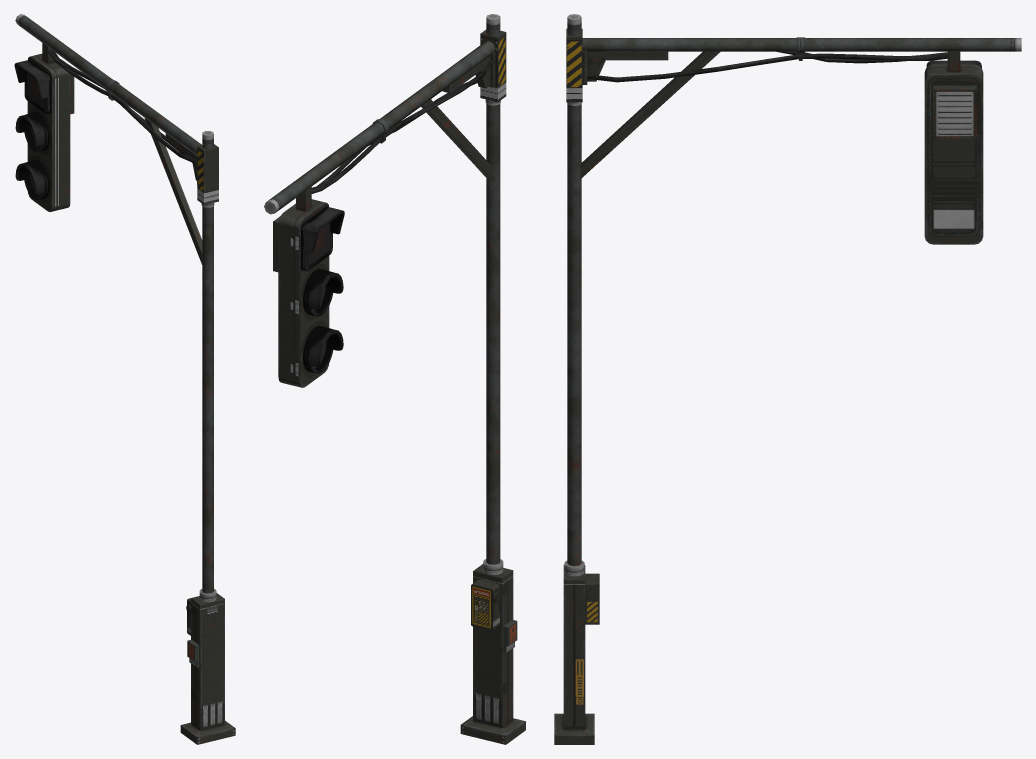
The model's file is CP_Traffic_Light_Big_01.fbx.
3 views of the same model, side by side, from view 1: azimuth 30°, elevation 25°; view 2: azimuth 150°, elevation 25°; view 3: azimuth 270°, elevation 25° (orthographic). The views are drawn at different scales.
Visible parts, largest first — view 1: CP_Traffic_Light_Big_01_LOD0, CP_Traffic_Light_Big_01_Screen; view 2: CP_Traffic_Light_Big_01_LOD0, CP_Traffic_Light_Big_01_Screen; view 3: CP_Traffic_Light_Big_01_LOD0.
Boxes of the visible parts, box(x1,y1,x2,y2) form: CP_Traffic_Light_Big_01_LOD0: box(14, 14, 235, 744); CP_Traffic_Light_Big_01_Screen: box(24, 72, 47, 113); CP_Traffic_Light_Big_01_LOD0: box(264, 14, 525, 744); CP_Traffic_Light_Big_01_Screen: box(305, 221, 332, 271); CP_Traffic_Light_Big_01_LOD0: box(554, 14, 1021, 744).
Size of what is drawn, in the model's own units: 38.62 by 522 by 308.
